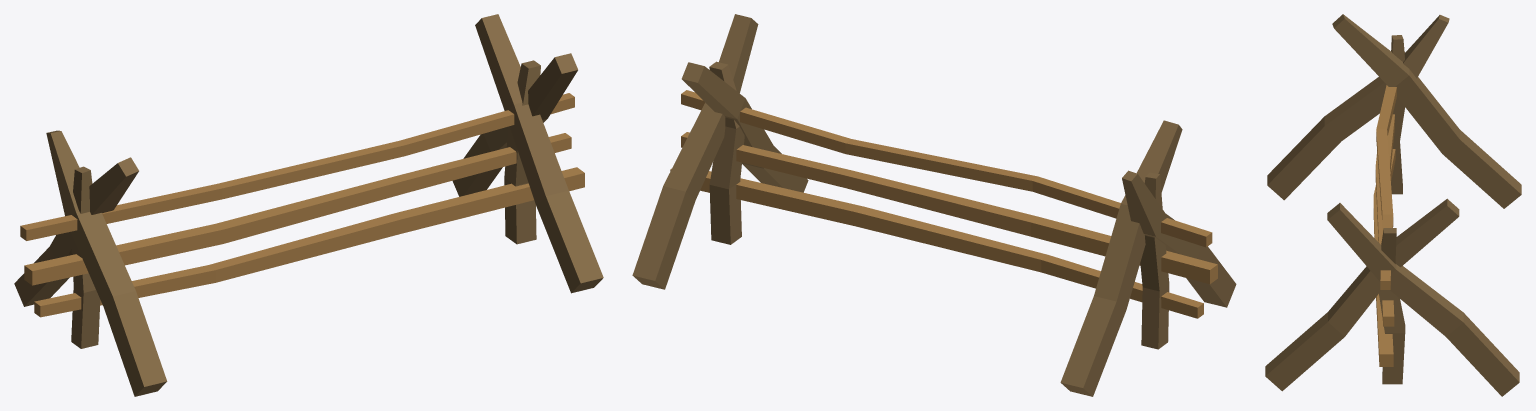
The model's file is Fence2.fbx.
3 renders of one model, left to right at view 1: azimuth 30°, elevation 25°; view 2: azimuth 150°, elevation 25°; view 3: azimuth 270°, elevation 25°, orthographic. The views are drawn at different scales.
Parts seen in each view (by area): view 1: Fence2; view 2: Fence2; view 3: Fence2.
Part boxes in pixels (<box>): Fence2: <box>14,14,603,396</box>; Fence2: <box>632,14,1236,396</box>; Fence2: <box>1265,14,1521,396</box>.
Size of the model in its own units: 6.62 by 2.43 by 3.
1 material, 1 textured.
